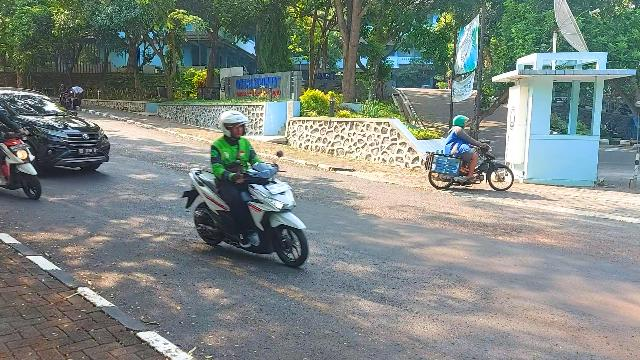helm: (222, 112, 250, 139), (454, 116, 470, 128)
motor: (183, 152, 310, 268), (430, 140, 515, 193)
